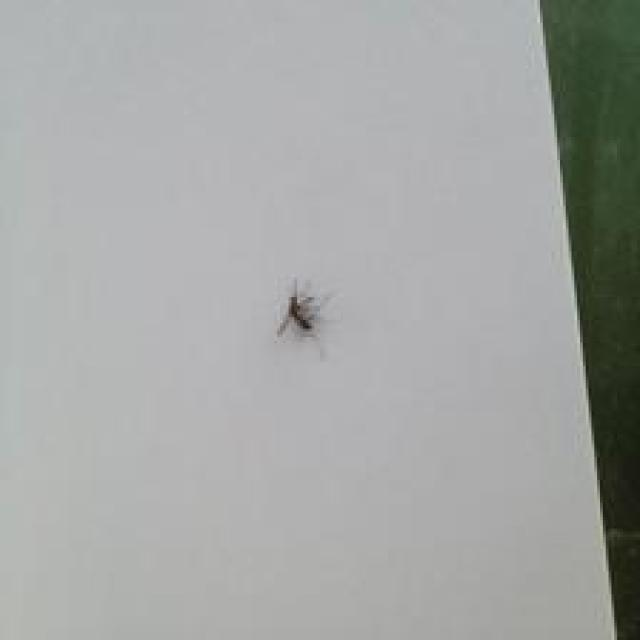Aedes albopictus: (274, 277, 323, 340)
